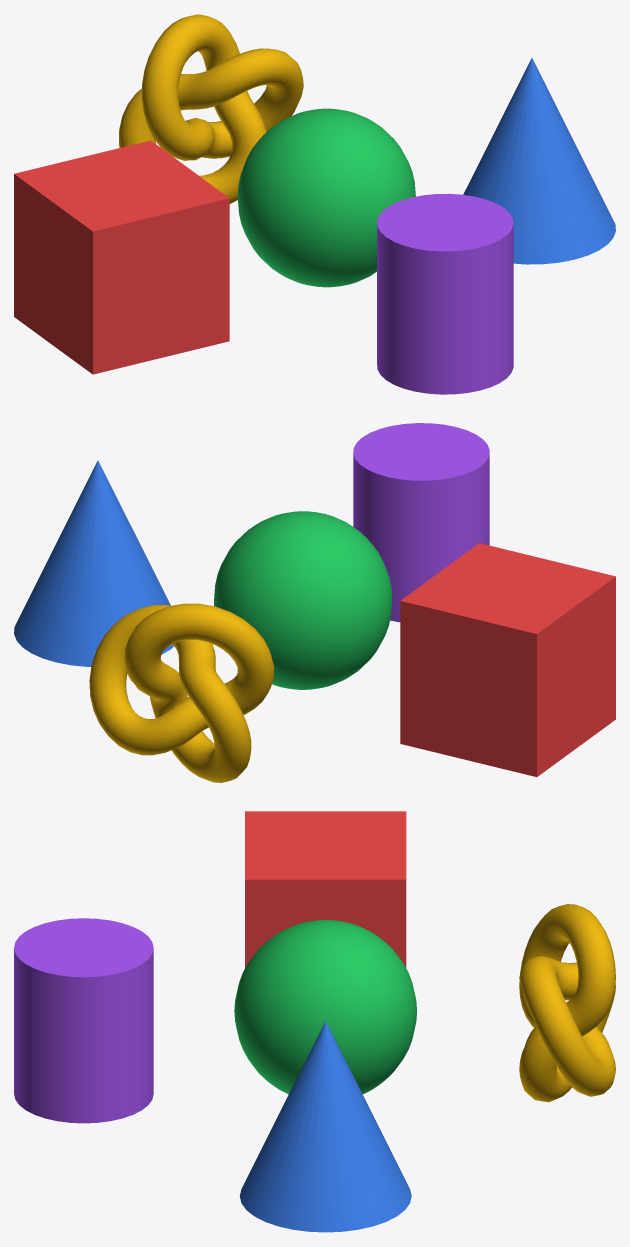
File: shapes.gltf
3 views of the same model, one above another, from view 1: azimuth 30°, elevation 25°; view 2: azimuth 150°, elevation 25°; view 3: azimuth 270°, elevation 25° (orthographic). The views are drawn at different scales.
Visible parts, largest first — view 1: shapes; view 2: shapes; view 3: shapes.
Part boxes in pixels (box(x1,y1,x2,y2)): shapes: box(14, 14, 615, 394); shapes: box(14, 423, 615, 782); shapes: box(14, 811, 615, 1232).
Size of the model in its own units: 1.21 by 0.3794 by 1.12.
